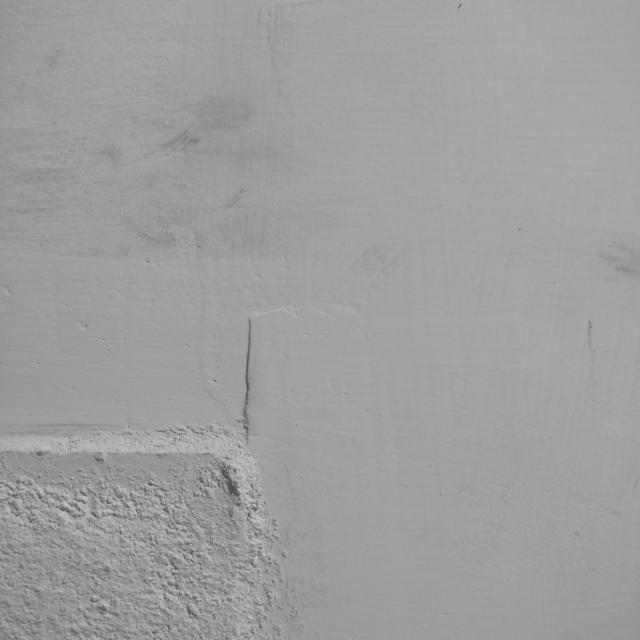rough and patchy surface: (0, 420, 306, 640), (179, 228, 368, 446)
